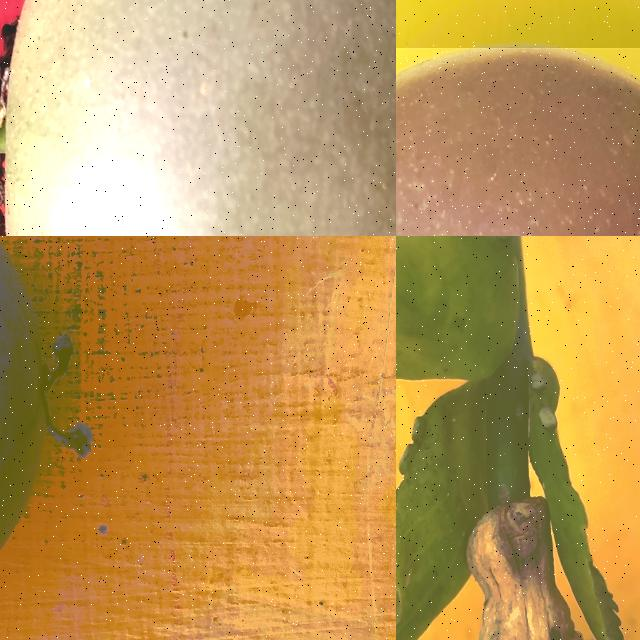Estado-1: (0, 0, 396, 236)
Estado-3: (396, 236, 617, 640)
Estado-5: (396, 49, 640, 236)
